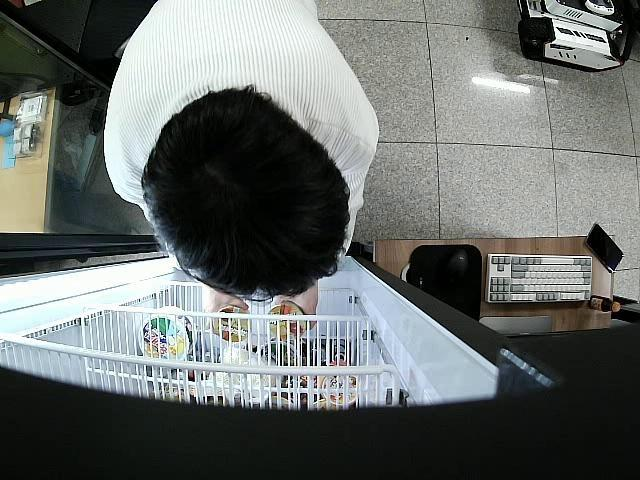04_chapagetti_S: (267, 304, 308, 342), (212, 306, 252, 344)
